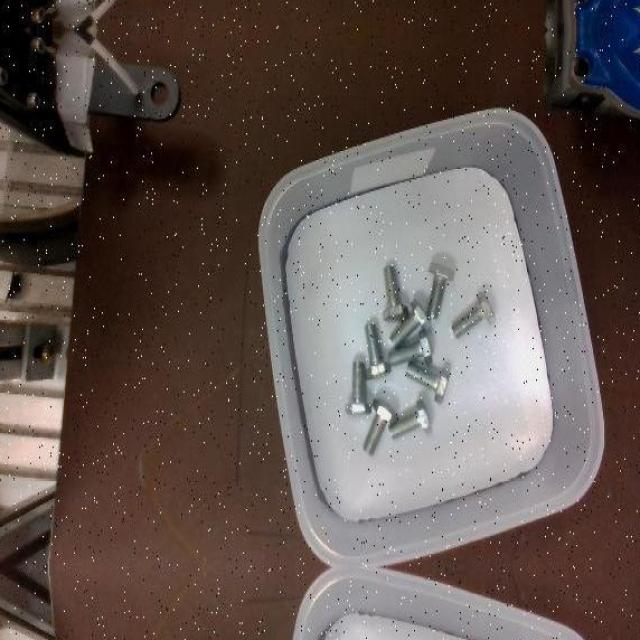screw: (388, 296, 431, 348), (451, 291, 496, 338), (362, 398, 398, 456), (405, 360, 450, 405), (388, 397, 432, 439), (388, 329, 432, 368), (425, 262, 454, 318), (364, 322, 391, 379), (344, 359, 371, 415), (382, 264, 408, 321)
